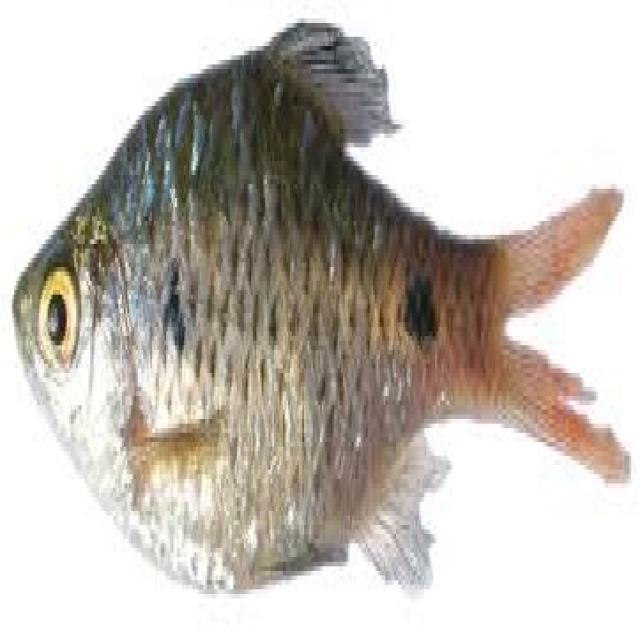Black-Spotted-Barb: (2, 22, 640, 639)
